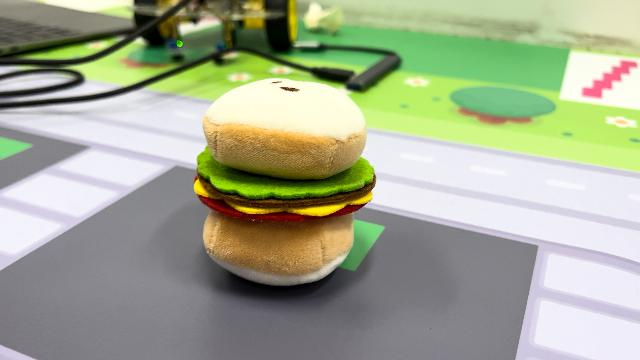sandwich: (192, 74, 378, 288)
